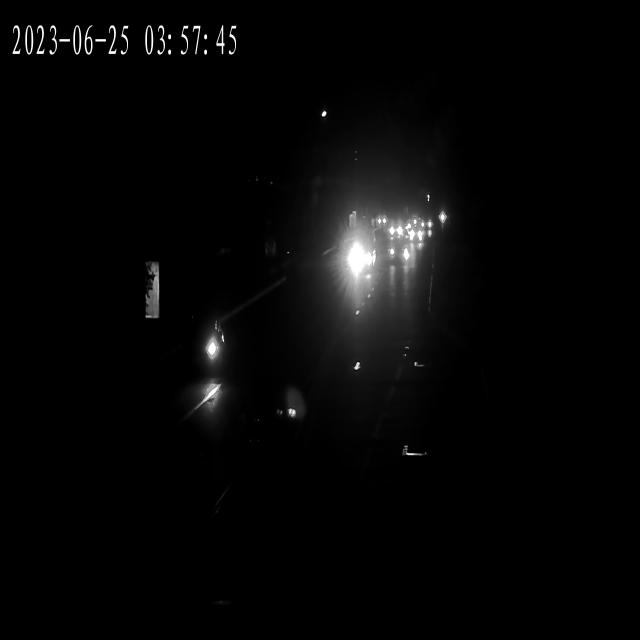Car: (342, 239, 377, 277), (385, 240, 412, 265), (383, 220, 406, 238), (405, 229, 427, 245), (372, 214, 389, 227)
Motorcycle: (198, 322, 230, 379)
